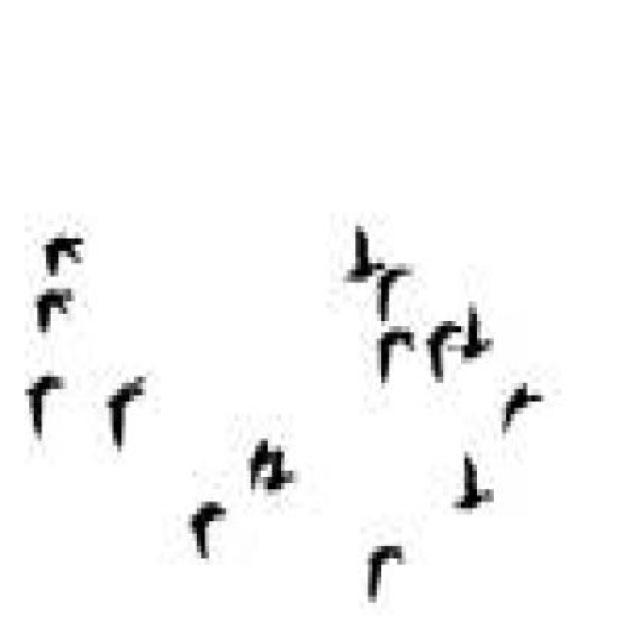bird: (494, 359, 554, 461), (332, 189, 391, 291), (43, 214, 109, 300), (14, 346, 77, 436), (344, 522, 414, 602), (436, 445, 502, 523), (110, 352, 153, 456), (448, 294, 498, 367), (369, 249, 416, 323), (368, 324, 420, 390), (185, 497, 230, 571), (226, 431, 277, 492), (29, 284, 84, 340), (422, 310, 458, 392), (261, 447, 304, 504)
